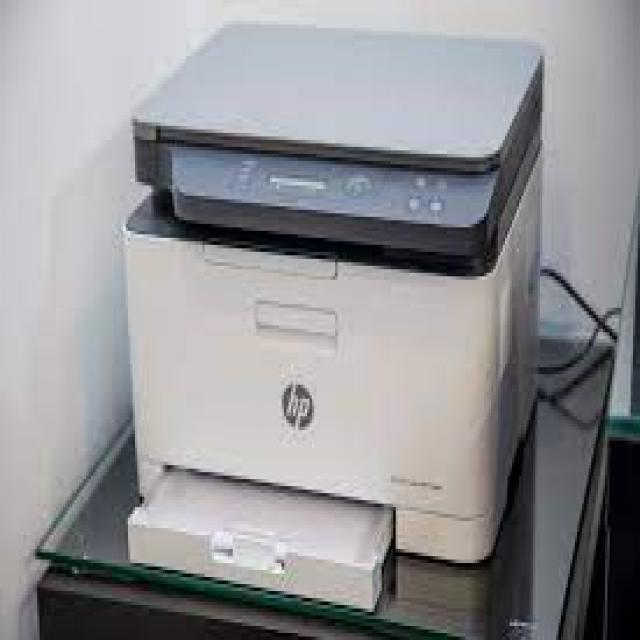printer: (70, 9, 615, 614)
